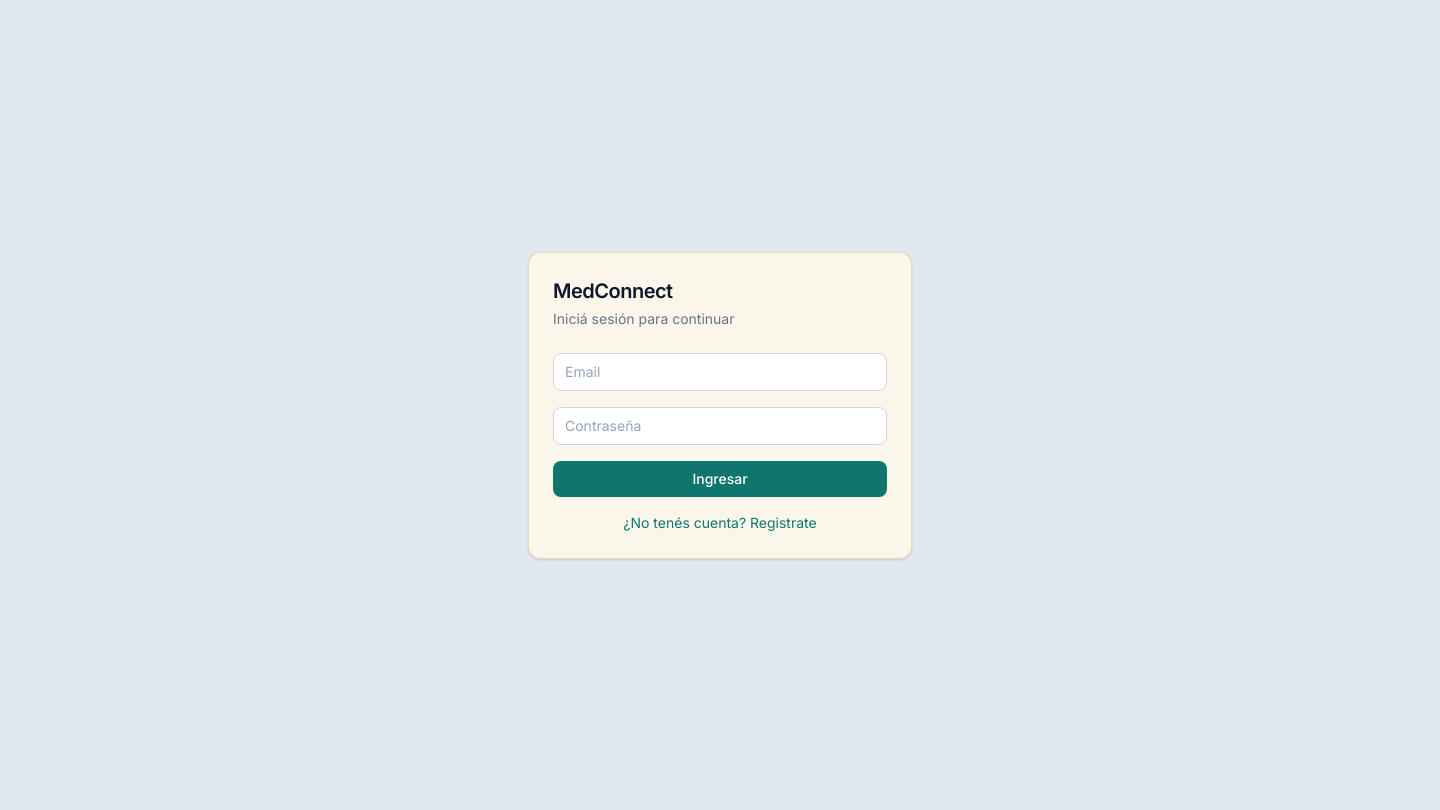
Scenario: Banner de cuenta no vinculada › tiene aria-live cuando el medico logueado no tiene perfil vinculado
The width and height of the screenshot is (1440, 810).
Type "medico@medconnect.com" into the field labelled "Email" at point(720, 372), box [553,352,887,390]
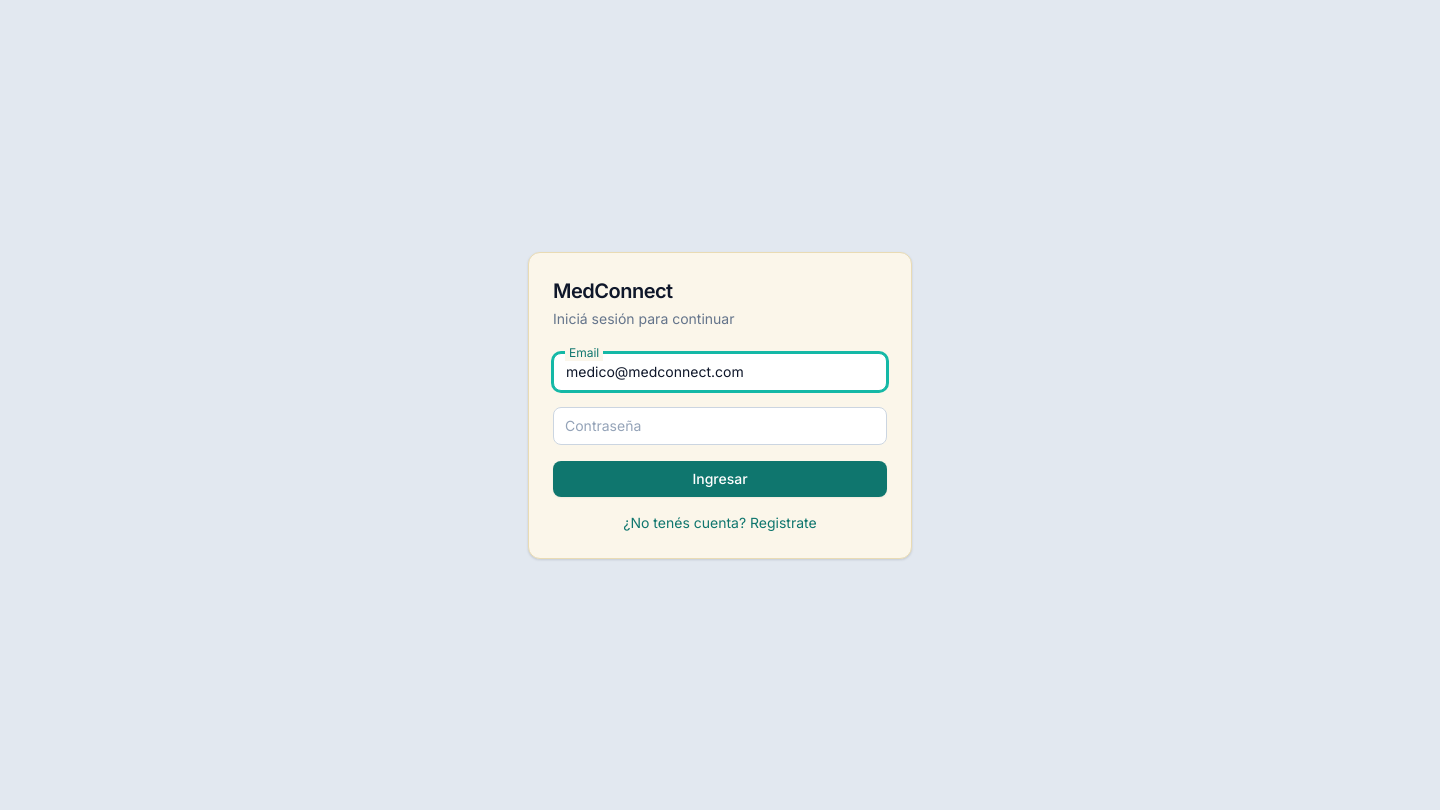
Type "secreto123" into the password field labelled "Contraseña" at point(720, 426), box [553,406,887,444]
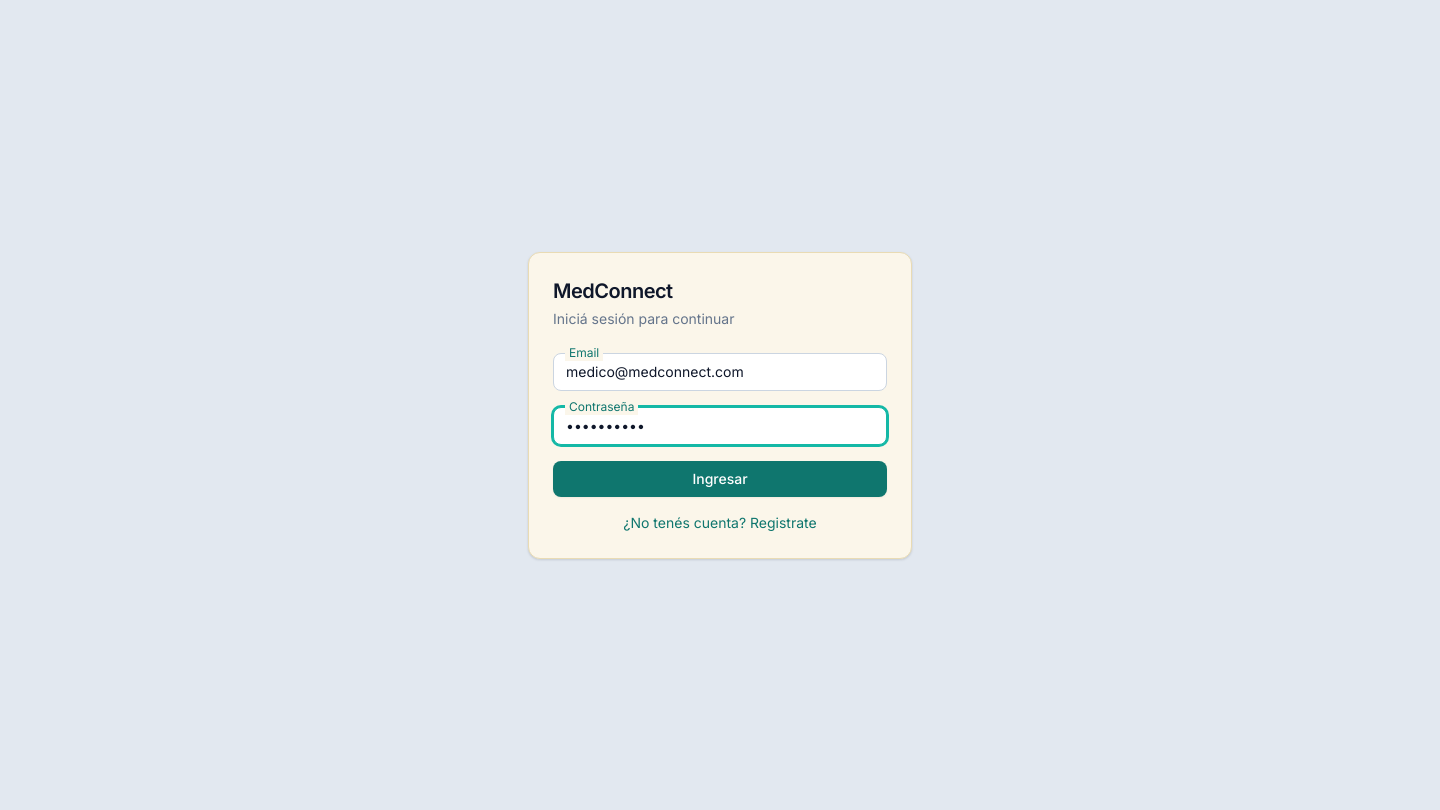
Click the button "Ingresar" at point(720, 478), box [553,460,887,496]
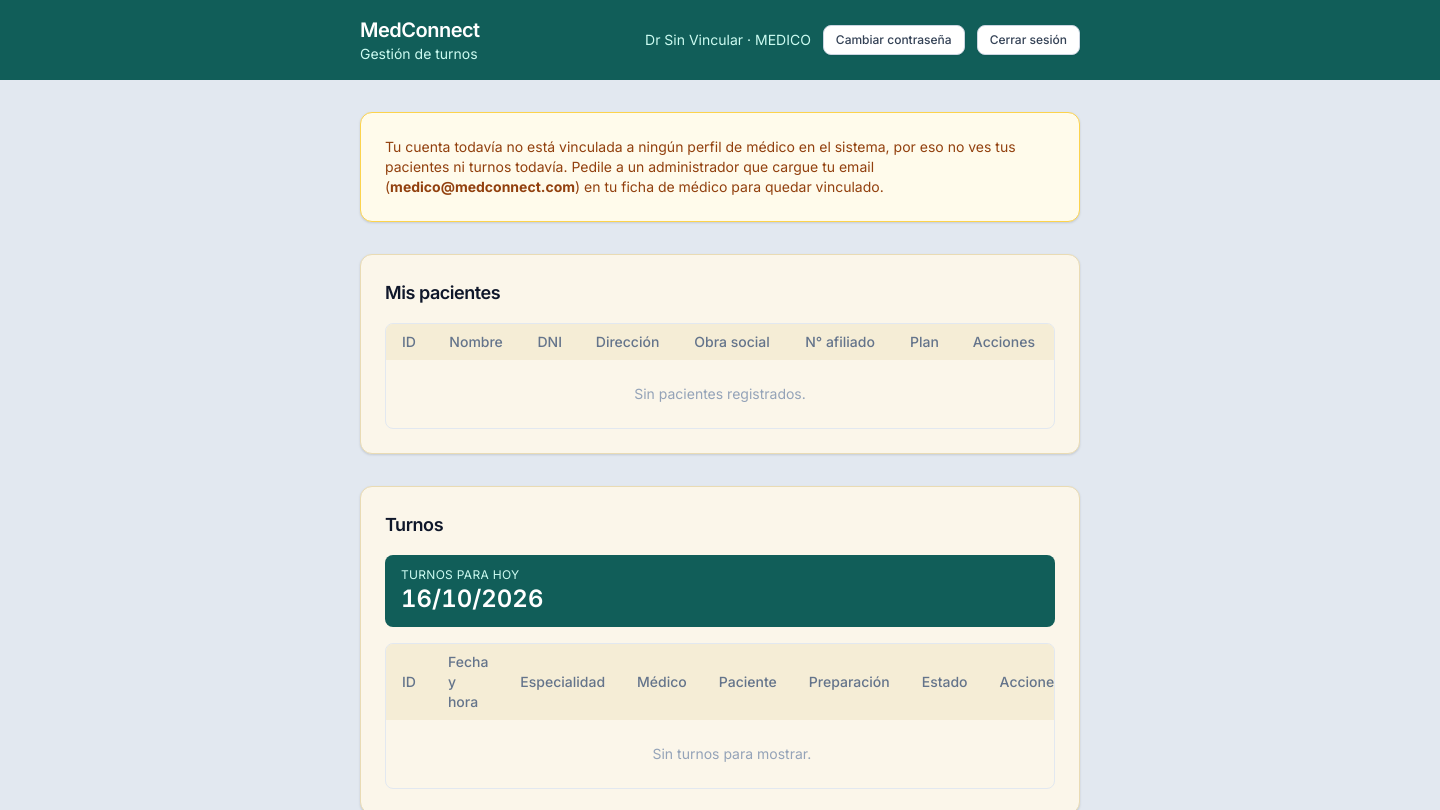
Now the message shows "cuenta todavía no está vinculada", box [385,138,746,155]
